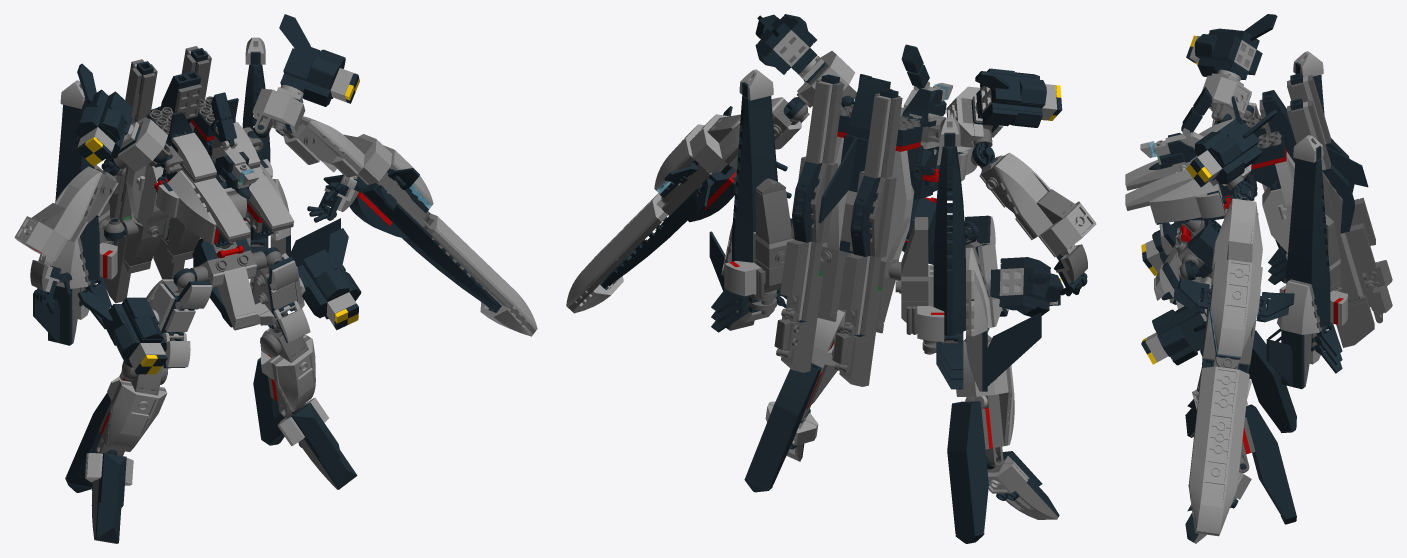
The model's file is mtf-01-hayato-thruster.dae.
The picture shows the model from 3 angles, left to right: view 1: azimuth 30°, elevation 25°; view 2: azimuth 150°, elevation 25°; view 3: azimuth 270°, elevation 25°; orthographic projection. The views are drawn at different scales.
Size of the model in its own units: 914 by 445 by 786.
